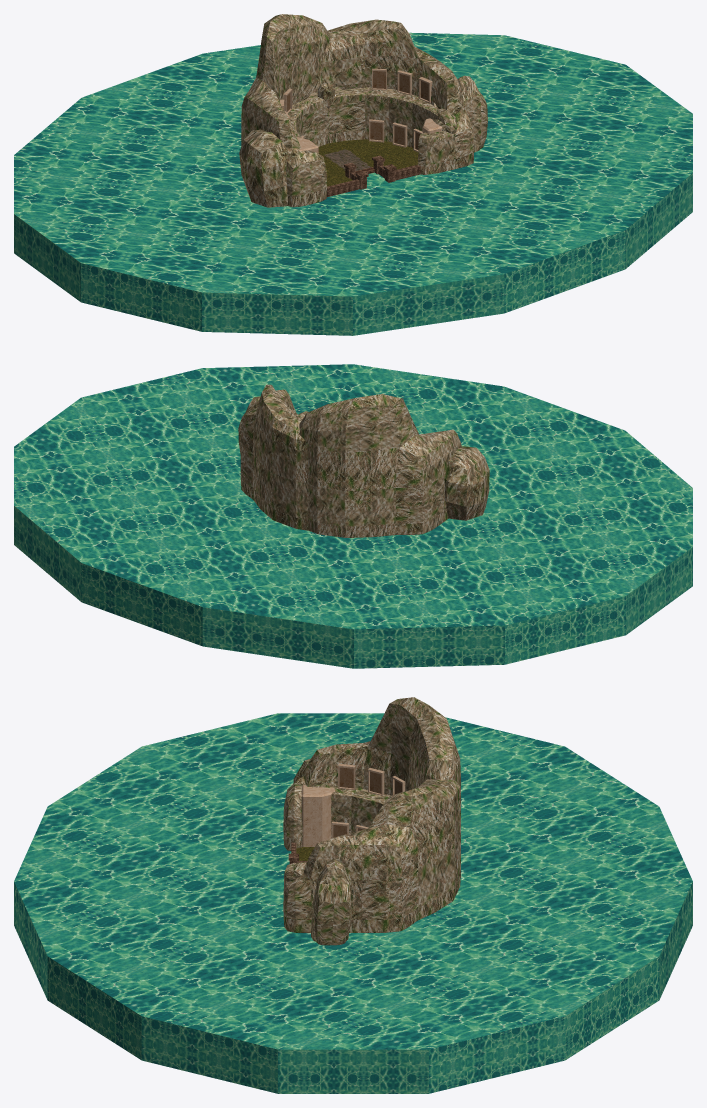
File: pixel_isle_lowpoly.fbx
3 views of the same model, one above another, from view 1: azimuth 30°, elevation 25°; view 2: azimuth 150°, elevation 25°; view 3: azimuth 270°, elevation 25° (orthographic). The views are drawn at different scales.
Visible parts, largest first — view 1: psx_isle_water, psx_isle_rock2, psx_isle_rock1, psx_isle_rock4, psx_isle_grass, psx_isle_rock5, psx_isle_doors, psx_isle_doors2, psx_isle_brickwall2; view 2: psx_isle_water, psx_isle_rock1, psx_isle_rock2, psx_isle_rock4; view 3: psx_isle_water, psx_isle_rock2, psx_isle_rock1, psx_isle_rock5, psx_isle_pillar, psx_isle_doors2, psx_isle_doors.
Boxes of the visible parts, bbox=[...] form: psx_isle_water: bbox=[14, 32, 692, 335]; psx_isle_rock2: bbox=[322, 19, 473, 174]; psx_isle_rock1: bbox=[241, 14, 329, 207]; psx_isle_rock4: bbox=[239, 129, 287, 207]; psx_isle_grass: bbox=[318, 139, 418, 186]; psx_isle_rock5: bbox=[457, 75, 487, 152]; psx_isle_doors: bbox=[280, 68, 432, 152]; psx_isle_doors2: bbox=[287, 71, 428, 149]; psx_isle_brickwall2: bbox=[327, 164, 420, 197]; psx_isle_water: bbox=[14, 364, 692, 668]; psx_isle_rock1: bbox=[299, 394, 461, 537]; psx_isle_rock2: bbox=[240, 384, 308, 530]; psx_isle_rock4: bbox=[444, 446, 489, 520]; psx_isle_water: bbox=[14, 713, 692, 1093]; psx_isle_rock2: bbox=[283, 779, 460, 932]; psx_isle_rock1: bbox=[283, 697, 460, 850]; psx_isle_rock5: bbox=[311, 858, 351, 945]; psx_isle_pillar: bbox=[301, 784, 334, 846]; psx_isle_doors2: bbox=[333, 767, 401, 837]; psx_isle_doors: bbox=[331, 763, 405, 838].
Bounding box in the file's own units: 7560 × 2074 × 6450.
